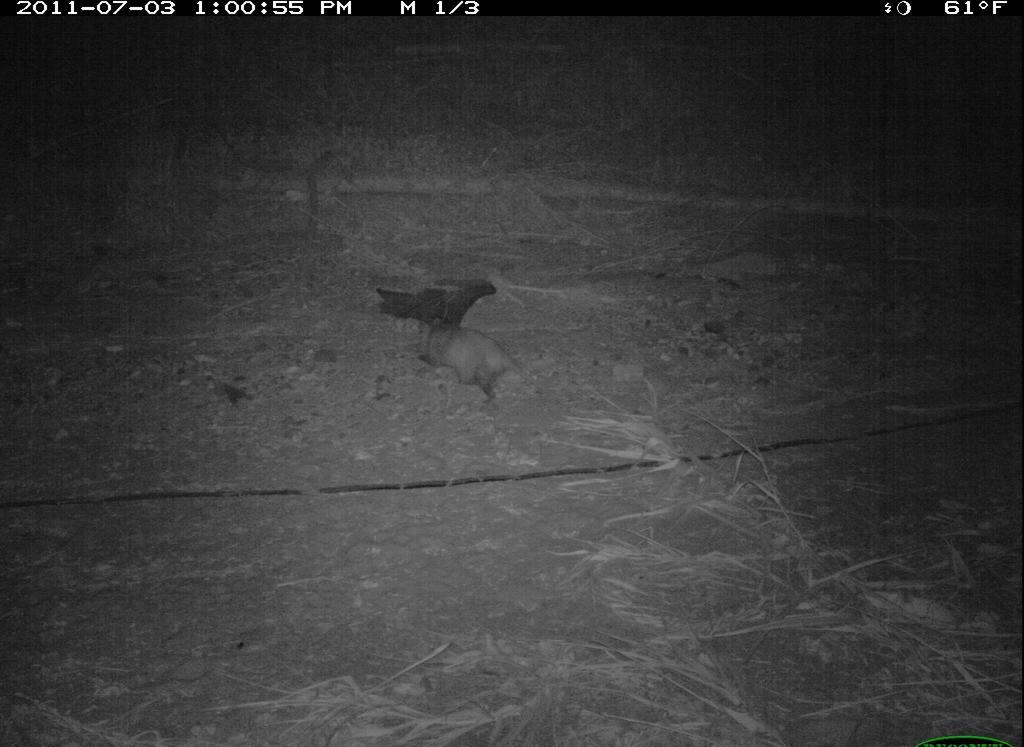opossum: (392, 303, 584, 413)
